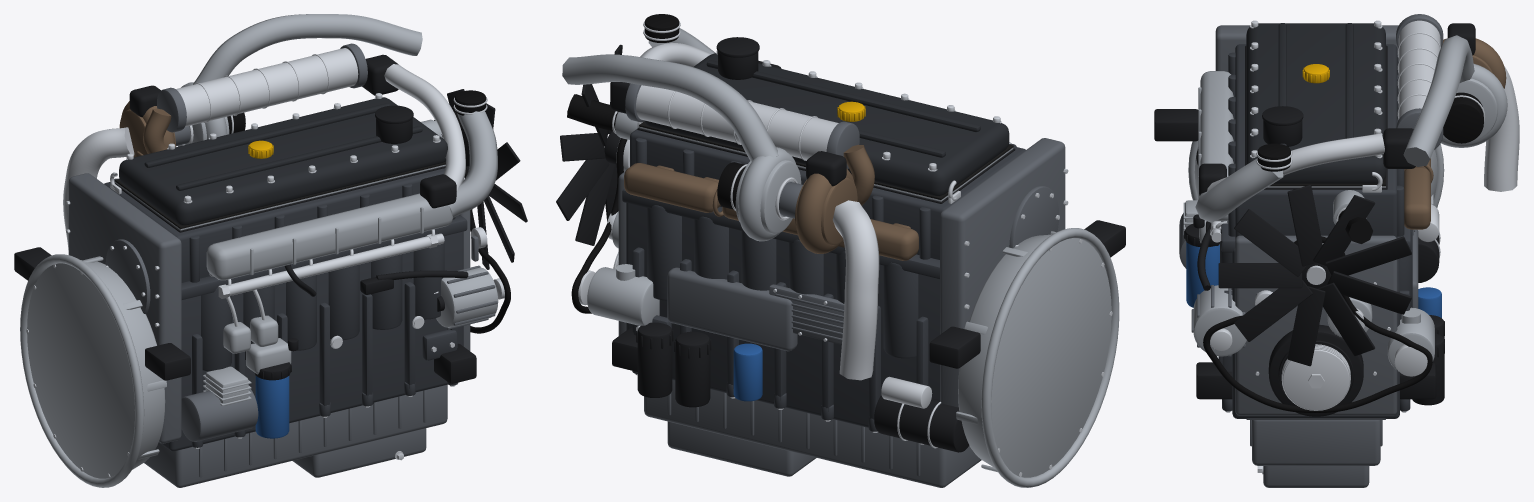
File: mx13_engine.glb
The picture shows the model from 3 angles, left to right: view 1: azimuth 30°, elevation 25°; view 2: azimuth 150°, elevation 25°; view 3: azimuth 270°, elevation 25°; orthographic projection. The views are drawn at different scales.
Parts seen in each view (by area): view 1: Engine_Aluminum, Engine_CGI, Engine_CastAlu, ValveCover_CoverPaint, Engine_Steel, Engine_BlackPlastic, ValveCover_BlackPlastic, Engine_BlueFilter, Engine_ExhaustCast, Engine_Rubber, Inside_Gasket, ValveCover_Steel (+1 smaller); view 2: Engine_Aluminum, Engine_CastAlu, Engine_CGI, Engine_BlackPlastic, Engine_Steel, ValveCover_CoverPaint, Engine_ExhaustCast, Engine_Rubber, ValveCover_BlackPlastic, Engine_BlueFilter, Inside_Gasket; view 3: Engine_BlackPlastic, Engine_CastAlu, Engine_Aluminum, ValveCover_CoverPaint, Engine_Steel, Engine_CGI, Engine_Rubber, Engine_ExhaustCast, ValveCover_BlackPlastic, Engine_BlueFilter, ValveCover_Steel, ValveCover_YellowCap (+1 smaller).
Boxes of the visible parts, x1,y1,x2,y2 form: Engine_Aluminum: (20,14,498,487); Engine_CGI: (104,168,467,451); Engine_CastAlu: (68,43,497,487); ValveCover_CoverPaint: (119,97,447,225); Engine_Steel: (26,48,504,477); Engine_BlackPlastic: (14,54,527,383); ValveCover_BlackPlastic: (114,105,445,232); Engine_BlueFilter: (255,376,289,438); Engine_ExhaustCast: (119,101,175,157); Engine_Rubber: (227,90,510,333); Inside_Gasket: (115,161,445,229); ValveCover_Steel: (126,93,440,203); Engine_Aluminum: (562,28,1119,487); Engine_CastAlu: (618,83,1065,487); Engine_CGI: (622,128,1025,431); Engine_BlackPlastic: (556,44,1125,452); Engine_Steel: (578,21,1112,476); ValveCover_CoverPaint: (644,53,1009,195); Engine_ExhaustCast: (624,144,918,260); Engine_Rubber: (567,14,745,313); ValveCover_BlackPlastic: (637,37,1015,203); Engine_BlueFilter: (733,343,762,401); Inside_Gasket: (639,122,1013,199); Engine_BlackPlastic: (1154,23,1475,416); Engine_CastAlu: (1179,14,1443,487); Engine_Aluminum: (1183,35,1507,370); ValveCover_CoverPaint: (1246,23,1385,183); Engine_Steel: (1207,20,1519,474); Engine_CGI: (1218,44,1412,418); Engine_Rubber: (1203,92,1483,412); Engine_ExhaustCast: (1404,38,1506,229); ValveCover_BlackPlastic: (1245,45,1387,189); Engine_BlueFilter: (1186,242,1441,317); ValveCover_Steel: (1250,20,1382,158); ValveCover_YellowCap: (1302,64,1329,83).
Bounding box in the file's own units: 1.84 × 1.63 × 1.31.
